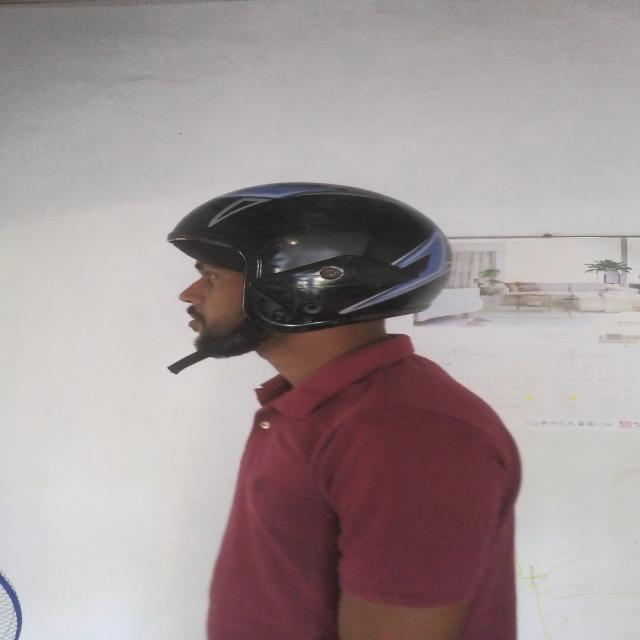Helmet_Wearer: (132, 181, 484, 387)
